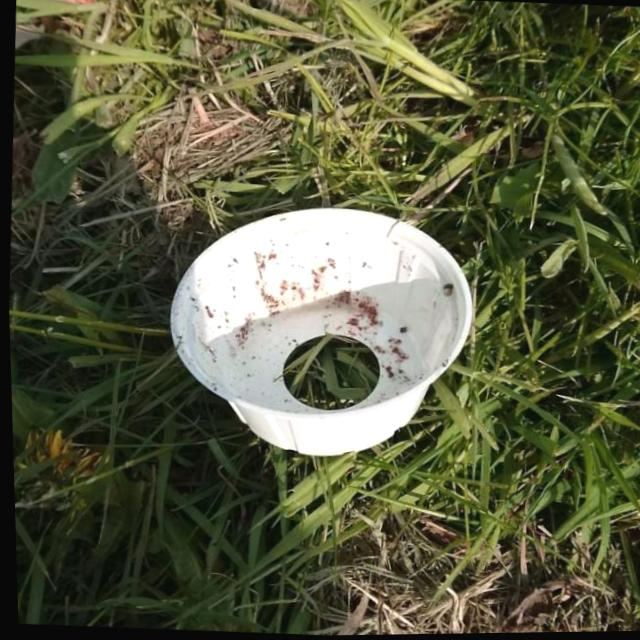Paper: (155, 197, 482, 469)
